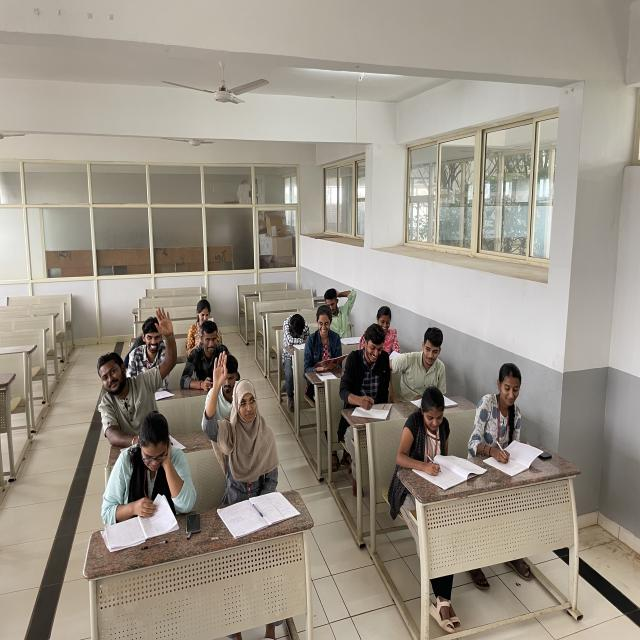Hand Rising: (83, 304, 184, 418), (208, 346, 284, 489)
Reading: (94, 406, 203, 516), (308, 303, 348, 381)
Sleeping: (271, 304, 309, 346)
Using Phone: (181, 321, 218, 385)
Writing: (470, 356, 547, 483), (400, 387, 470, 495), (345, 324, 400, 432)
